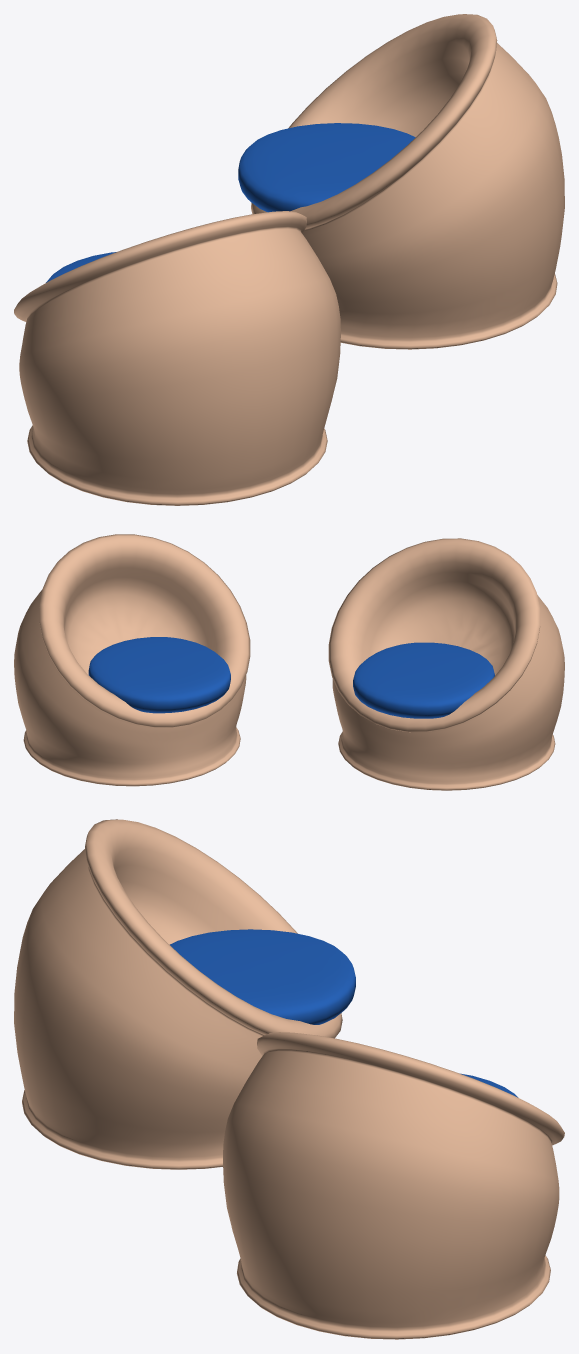
File: chair.obj
3 views of the same model, one above another, from view 1: azimuth 30°, elevation 25°; view 2: azimuth 150°, elevation 25°; view 3: azimuth 270°, elevation 25° (orthographic). The views are drawn at different scales.
Parts seen in each view (by area): view 1: Cylinder001, Cylinder002, Box002; view 2: Cylinder001, Cylinder002, Box002, Box001; view 3: Cylinder002, Cylinder001, Box001.
Part boxes in pixels (box(x1,y1,x2,y2)): Cylinder001: box(14, 211, 340, 505); Cylinder002: box(251, 14, 564, 349); Box002: box(238, 123, 415, 212); Cylinder001: box(328, 538, 564, 790); Cylinder002: box(14, 534, 250, 786); Box002: box(88, 637, 230, 713); Box001: box(353, 642, 494, 718); Cylinder002: box(223, 1032, 564, 1339); Cylinder001: box(14, 819, 342, 1169); Box001: box(170, 929, 355, 1024).
Size of the model in its own units: 163 by 64.37 by 121.
